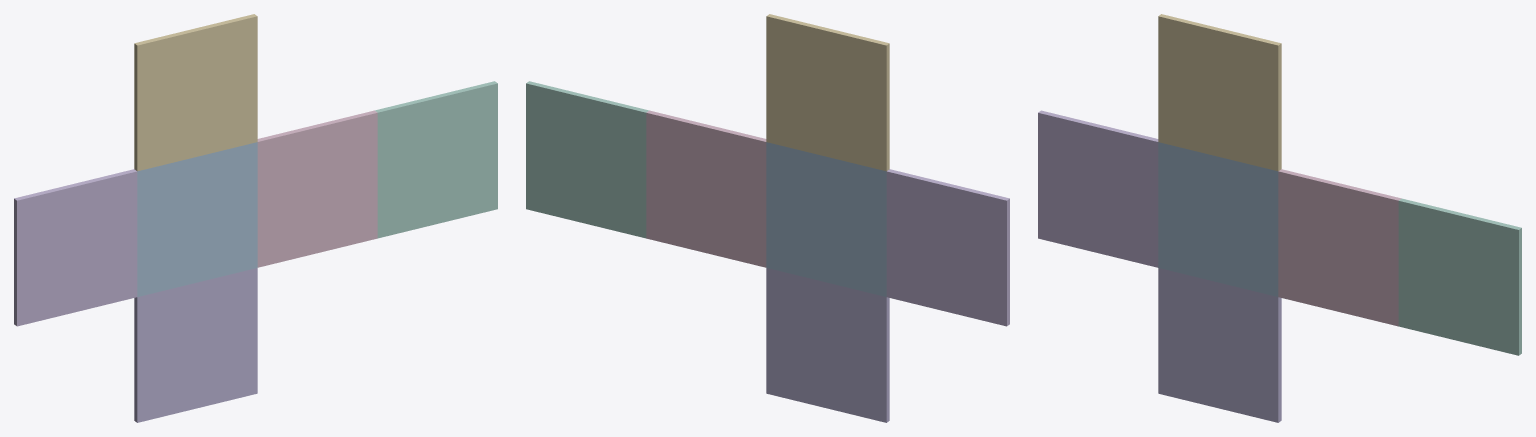
The model's file is jaring-kubus.glb.
3 renders of one model, left to right at view 1: azimuth 30°, elevation 25°; view 2: azimuth 150°, elevation 25°; view 3: azimuth 330°, elevation 25°, orthographic.
Visible parts, largest first — view 1: jaring-kubus_4, jaring-kubus_0, jaring-kubus_5, jaring-kubus_3, jaring-kubus_2, jaring-kubus_1; view 2: jaring-kubus_4, jaring-kubus_0, jaring-kubus_5, jaring-kubus_3, jaring-kubus_2, jaring-kubus_1; view 3: jaring-kubus_3, jaring-kubus_4, jaring-kubus_5, jaring-kubus_2, jaring-kubus_0, jaring-kubus_1.
Boxes of the visible parts, x1=… form: jaring-kubus_4: x1=134, y1=14, x2=257, y2=171; jaring-kubus_0: x1=14, y1=169, x2=137, y2=326; jaring-kubus_5: x1=134, y1=268, x2=257, y2=422; jaring-kubus_3: x1=375, y1=81, x2=497, y2=238; jaring-kubus_2: x1=257, y1=110, x2=377, y2=267; jaring-kubus_1: x1=137, y1=142, x2=257, y2=296; jaring-kubus_4: x1=766, y1=14, x2=889, y2=171; jaring-kubus_0: x1=886, y1=169, x2=1009, y2=326; jaring-kubus_5: x1=766, y1=268, x2=889, y2=422; jaring-kubus_3: x1=526, y1=81, x2=648, y2=238; jaring-kubus_2: x1=646, y1=110, x2=766, y2=267; jaring-kubus_1: x1=766, y1=142, x2=886, y2=296; jaring-kubus_3: x1=1398, y1=198, x2=1521, y2=355; jaring-kubus_4: x1=1158, y1=14, x2=1281, y2=171; jaring-kubus_5: x1=1158, y1=268, x2=1281, y2=422; jaring-kubus_2: x1=1278, y1=169, x2=1401, y2=326; jaring-kubus_0: x1=1038, y1=110, x2=1158, y2=267; jaring-kubus_1: x1=1158, y1=142, x2=1278, y2=296.
Bounding box in the file's own units: 4 × 3 × 0.045.
